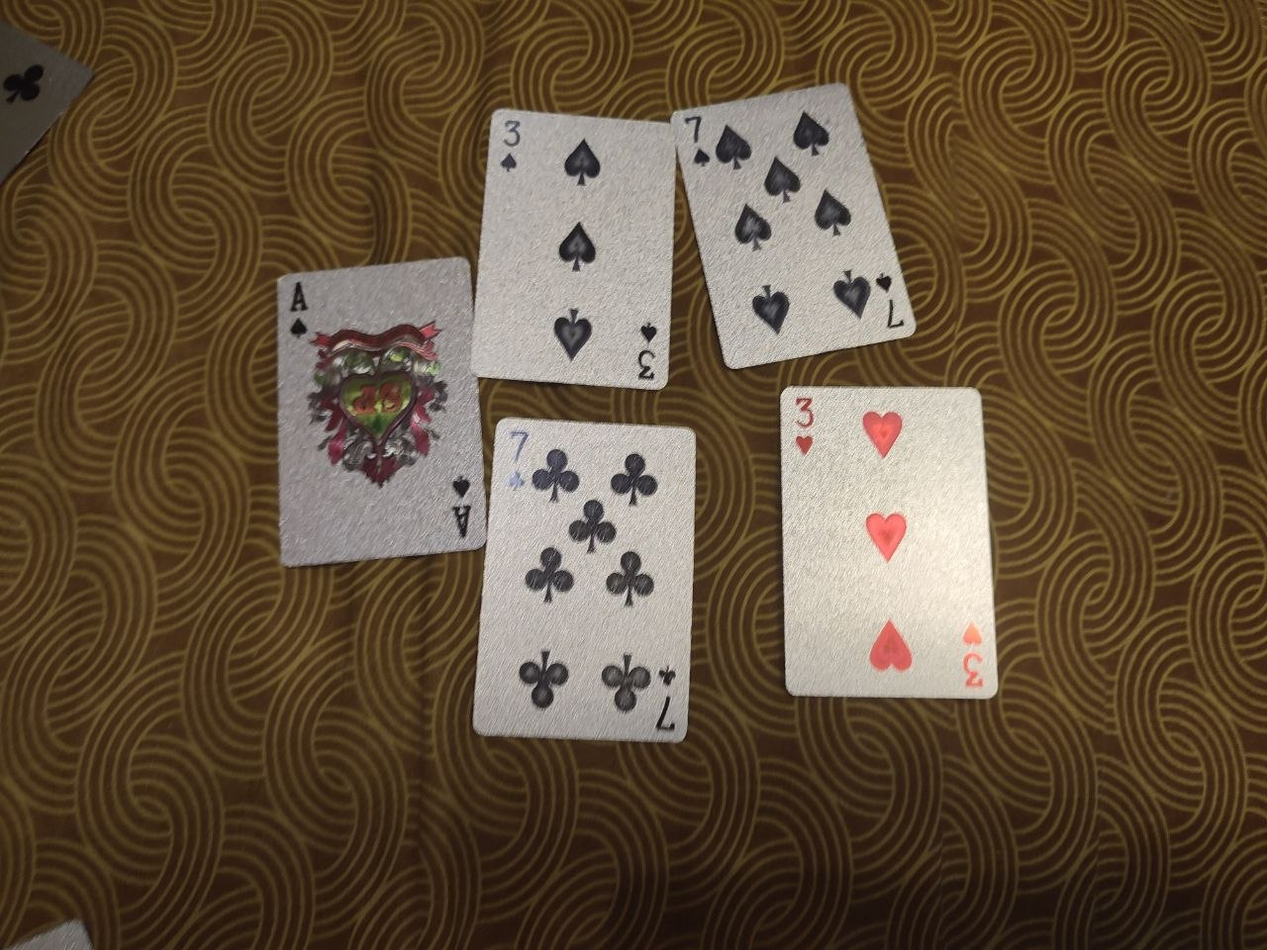3H: (778, 382, 1003, 702)
3S: (472, 108, 678, 390)
7C: (468, 416, 701, 745)
7S: (669, 80, 919, 372)
AS: (274, 255, 488, 568)
